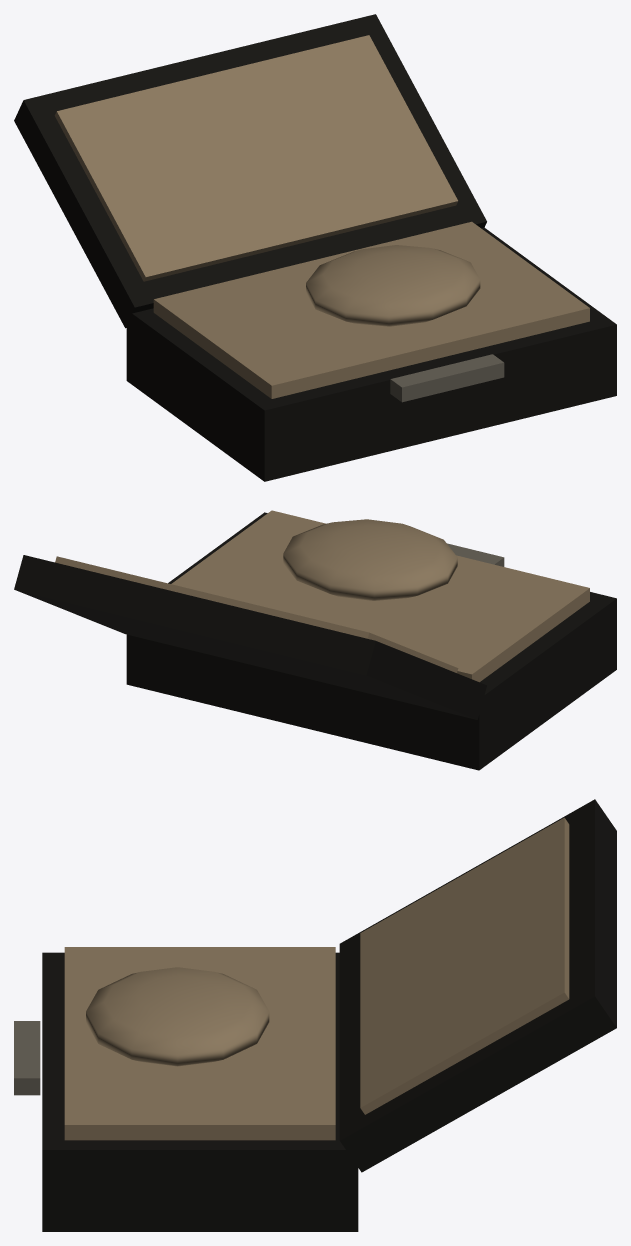
Rendered from suitcase_open_80s.glb.
The picture shows the model from 3 angles, top to bottom: view 1: azimuth 30°, elevation 25°; view 2: azimuth 150°, elevation 25°; view 3: azimuth 270°, elevation 25°; orthographic projection. The views are drawn at different scales.
Parts seen in each view (by area): view 1: fabric__lid_lining, dark__bottom_shell, fabric__inner_lining, dark__open_lid, fabric__shirt_in_suitcase, metal__handle; view 2: dark__bottom_shell, fabric__inner_lining, dark__open_lid, fabric__shirt_in_suitcase, fabric__lid_lining, metal__handle; view 3: fabric__inner_lining, fabric__lid_lining, dark__bottom_shell, dark__open_lid, fabric__shirt_in_suitcase, metal__handle.
Boxes of the visible parts, left/top/right/bottom form: fabric__lid_lining: left=54, top=35, right=458, bottom=281; dark__bottom_shell: left=126, top=227, right=616, bottom=481; fabric__inner_lining: left=153, top=221, right=589, bottom=398; dark__open_lid: left=14, top=14, right=486, bottom=328; fabric__shirt_in_suitcase: left=306, top=245, right=480, bottom=326; metal__handle: left=390, top=354, right=504, bottom=402; dark__bottom_shell: left=126, top=512, right=616, bottom=770; fabric__inner_lining: left=171, top=510, right=589, bottom=682; dark__open_lid: left=14, top=555, right=486, bottom=719; fabric__shirt_in_suitcase: left=283, top=519, right=457, bottom=600; fabric__lid_lining: left=55, top=556, right=458, bottom=672; metal__handle: left=447, top=543, right=504, bottom=566; fabric__inner_lining: left=64, top=947, right=335, bottom=1140; fabric__lid_lining: left=360, top=817, right=569, bottom=1114; dark__bottom_shell: left=42, top=952, right=358, bottom=1231; dark__open_lid: left=339, top=799, right=616, bottom=1172; fabric__shirt_in_suitcase: left=86, top=967, right=269, bottom=1066; metal__handle: left=14, top=1021, right=40, bottom=1095.
Size of the model in its own units: 0.62 by 0.3453 by 0.8013.
